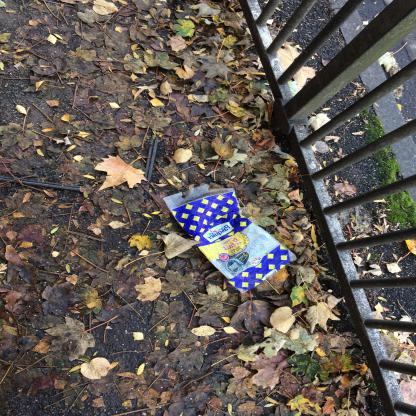plastik: (164, 185, 294, 294)
